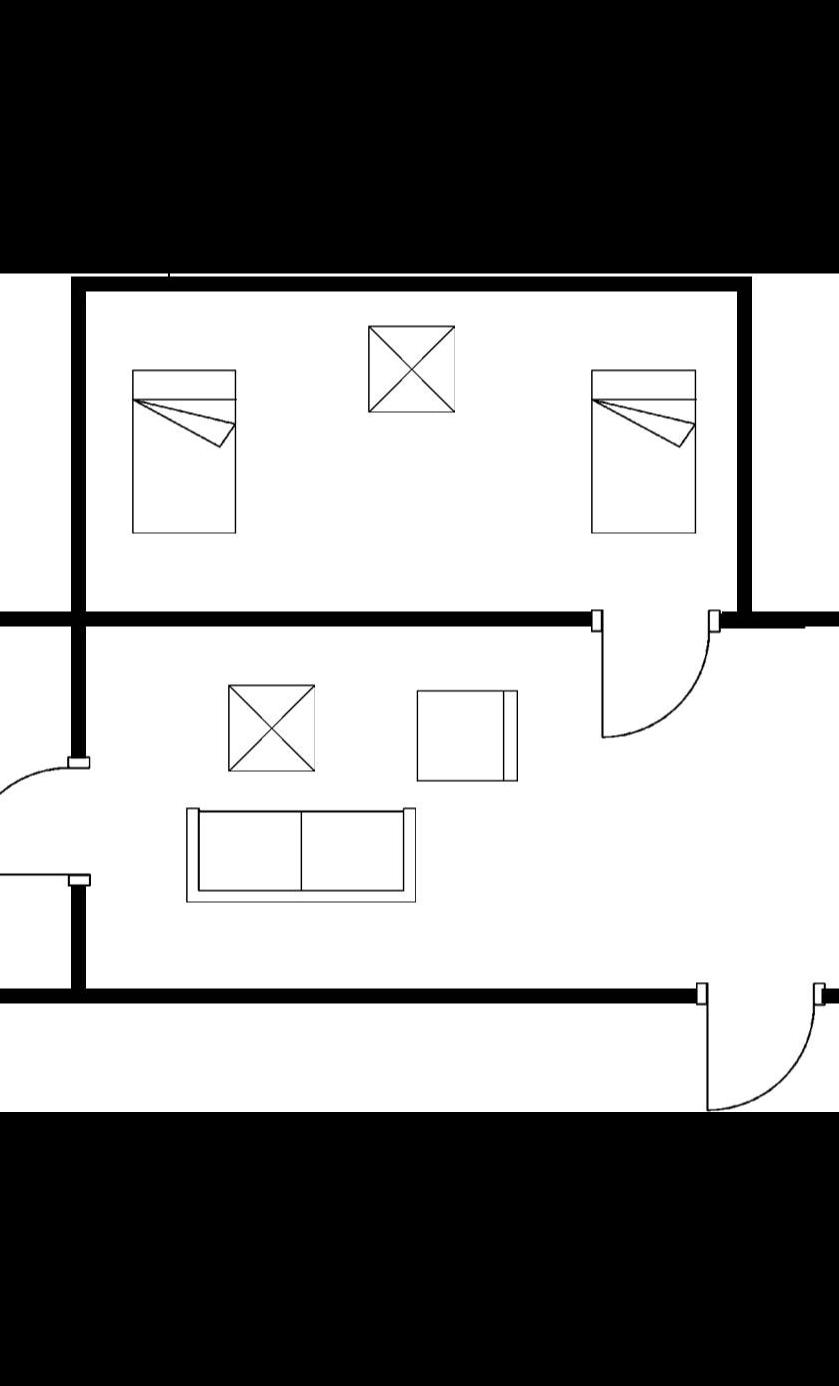bed: (124, 360, 244, 544), (582, 362, 703, 540)
sofa: (178, 797, 428, 914)
